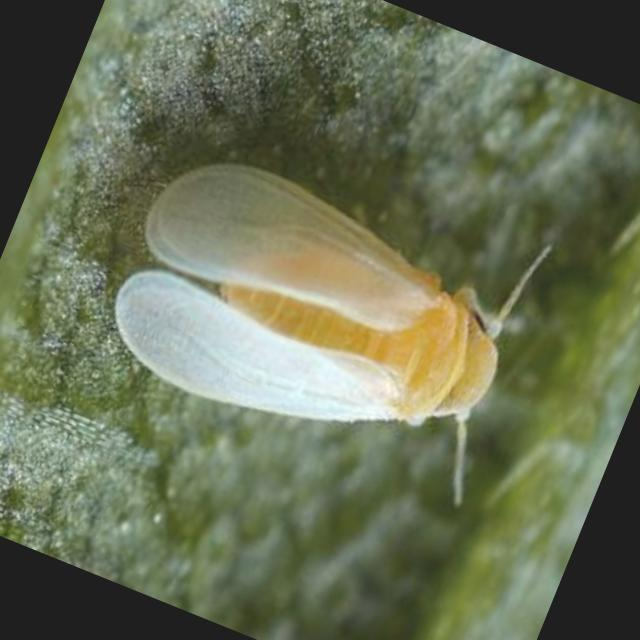Silverleaf whitefly: (55, 85, 620, 551)
